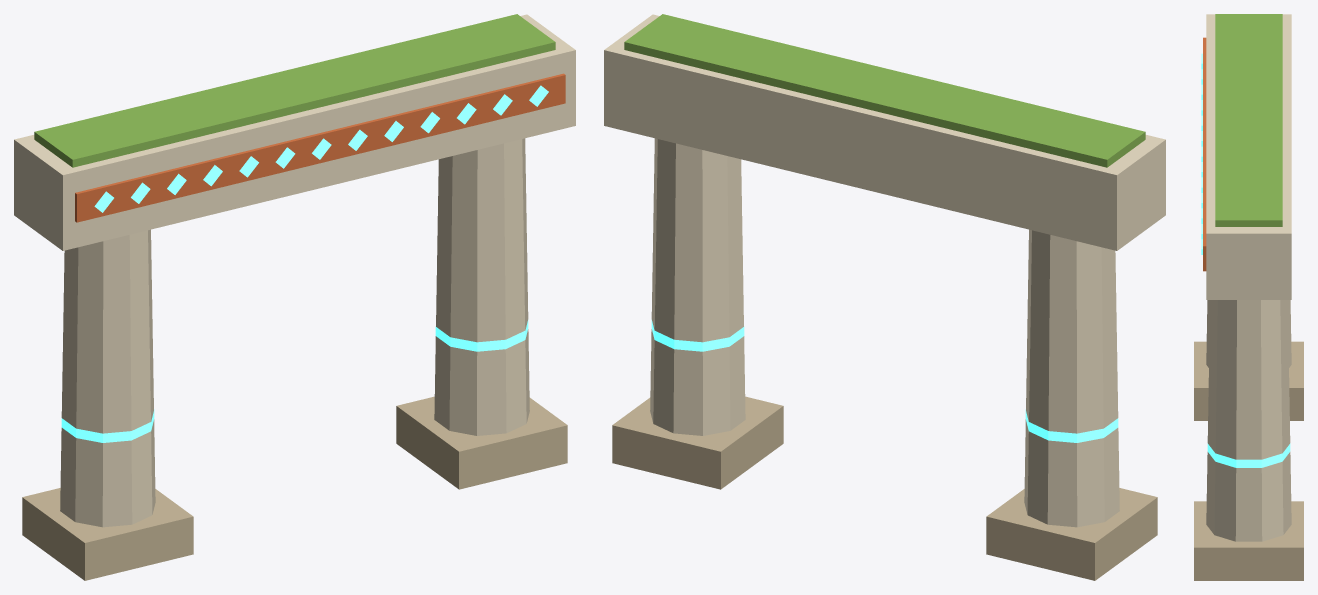
The model's file is gate.glb.
3 views of the same model, side by side, from view 1: azimuth 30°, elevation 25°; view 2: azimuth 150°, elevation 25°; view 3: azimuth 270°, elevation 25° (orthographic). The views are drawn at different scales.
Parts seen in each view (by area): view 1: gate; view 2: gate; view 3: gate.
Boxes of the visible parts, bbox=[...] form: gate: bbox=[14, 14, 575, 580]; gate: bbox=[604, 14, 1165, 580]; gate: bbox=[1194, 14, 1303, 580].
Size of the model in its own units: 17 by 13.05 by 3.6.
